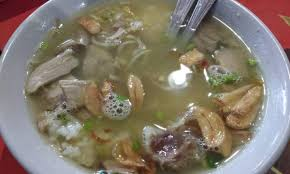soto: (3, 3, 276, 173)
